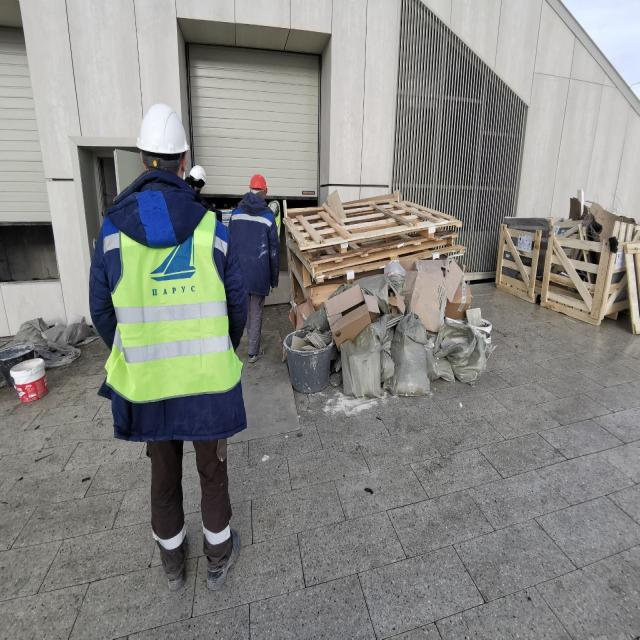Helmet: (138, 104, 190, 157), (190, 166, 209, 185), (249, 175, 269, 192)
Jacket: (114, 201, 216, 403)
NoJacket: (236, 200, 272, 288)
